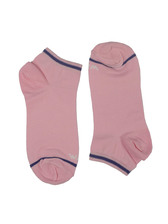sock: (86, 42, 159, 178), (16, 46, 84, 188)
